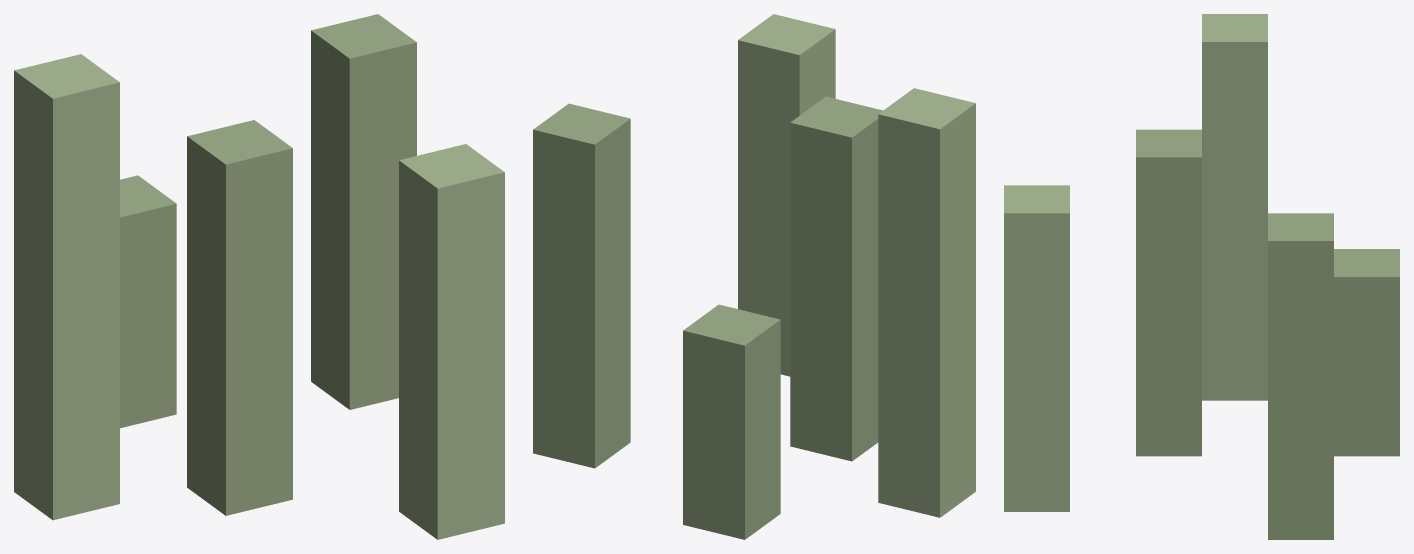
File: alcaparra_02.glb
3 views of the same model, side by side, from view 1: azimuth 30°, elevation 25°; view 2: azimuth 150°, elevation 25°; view 3: azimuth 270°, elevation 25° (orthographic). The views are drawn at different scales.
Parts seen in each view (by area): view 1: alcaparra_02; view 2: alcaparra_02; view 3: alcaparra_02.
Part boxes in pixels (<box>): alcaparra_02: <box>14,14,504,539</box>; alcaparra_02: <box>533,14,975,539</box>; alcaparra_02: <box>1004,14,1399,539</box>.
Bounding box in the file's own units: 0.6 × 0.6 × 0.6.
